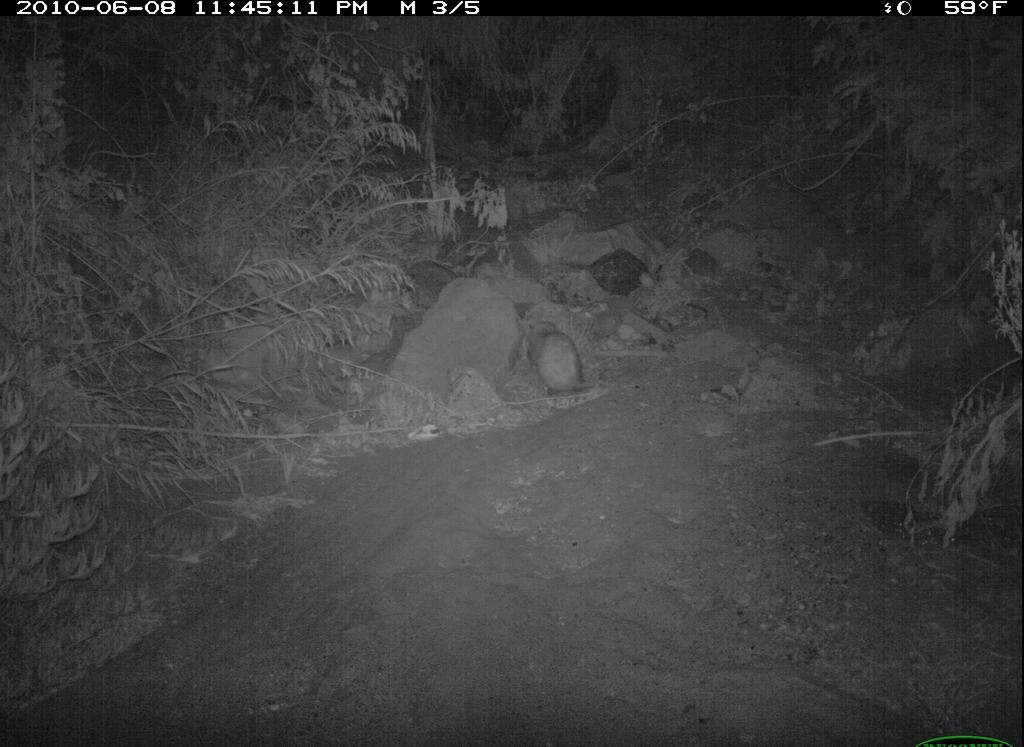opossum: (515, 318, 629, 405)
